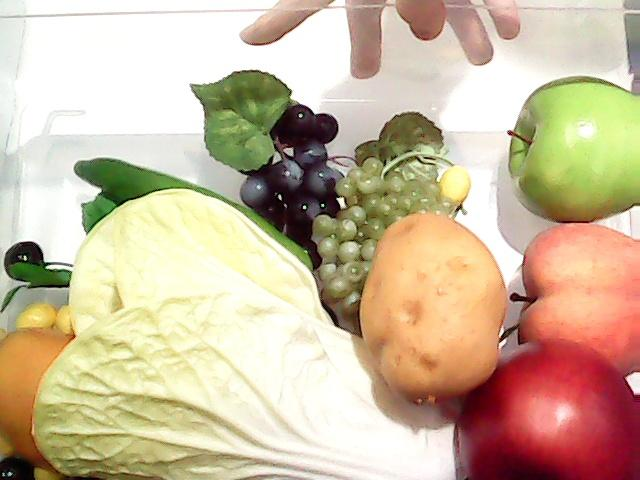apple: (454, 348, 638, 480), (502, 76, 638, 224)
grape: (312, 152, 462, 344), (236, 102, 348, 274)
lemon: (0, 314, 84, 458)
napa cabbage: (27, 188, 481, 478)
peach: (511, 220, 640, 384)
pepper: (49, 156, 324, 256)
potato: (359, 213, 508, 409)
